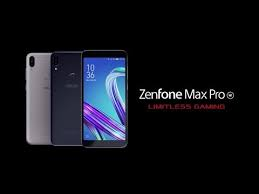asus: (77, 46, 130, 149), (50, 46, 83, 149), (21, 47, 52, 147)
